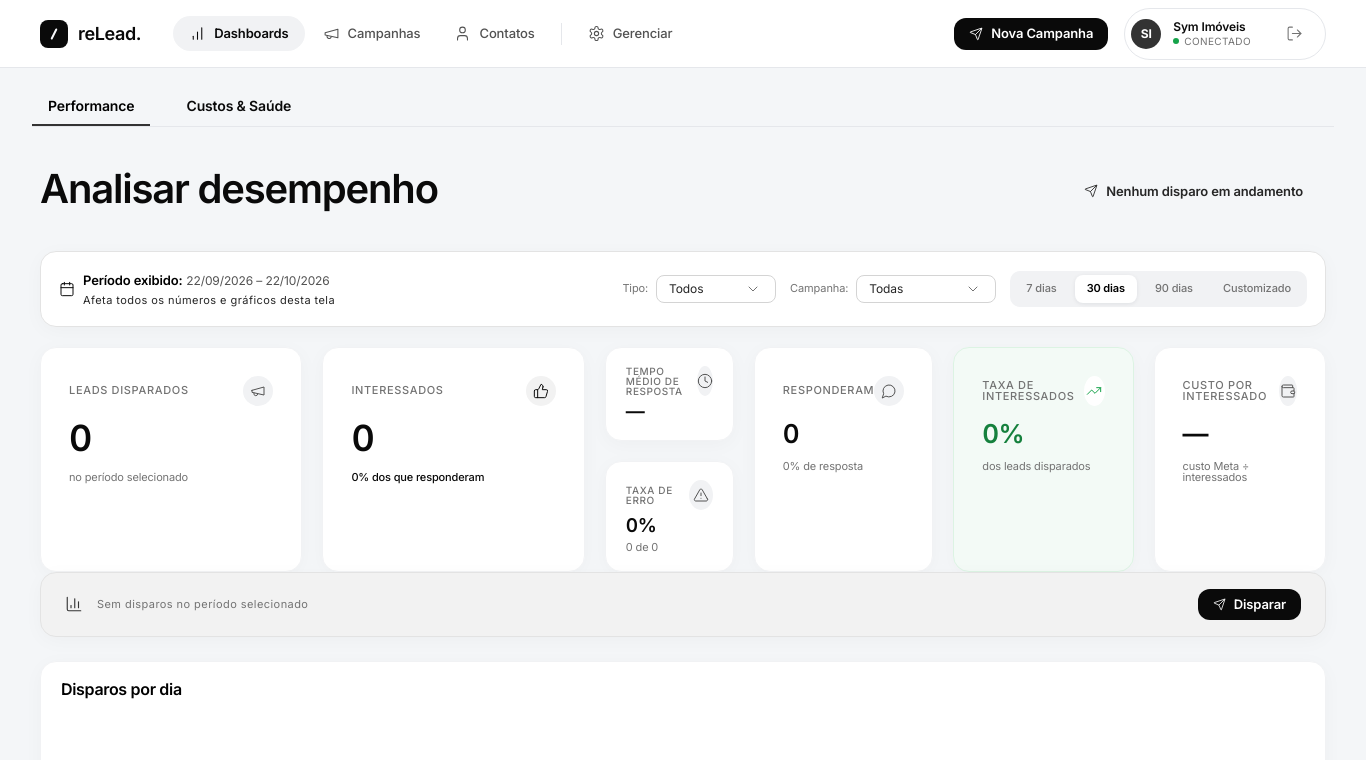
Scenario: DashboardPage - Gerenciar CRUD › Campanhas agendadas › deve abrir modal de detalhes ao clicar no botão visualizar
Click the button "Gerenciar" at (630, 34), box x1=572 y1=16 x2=688 y2=51
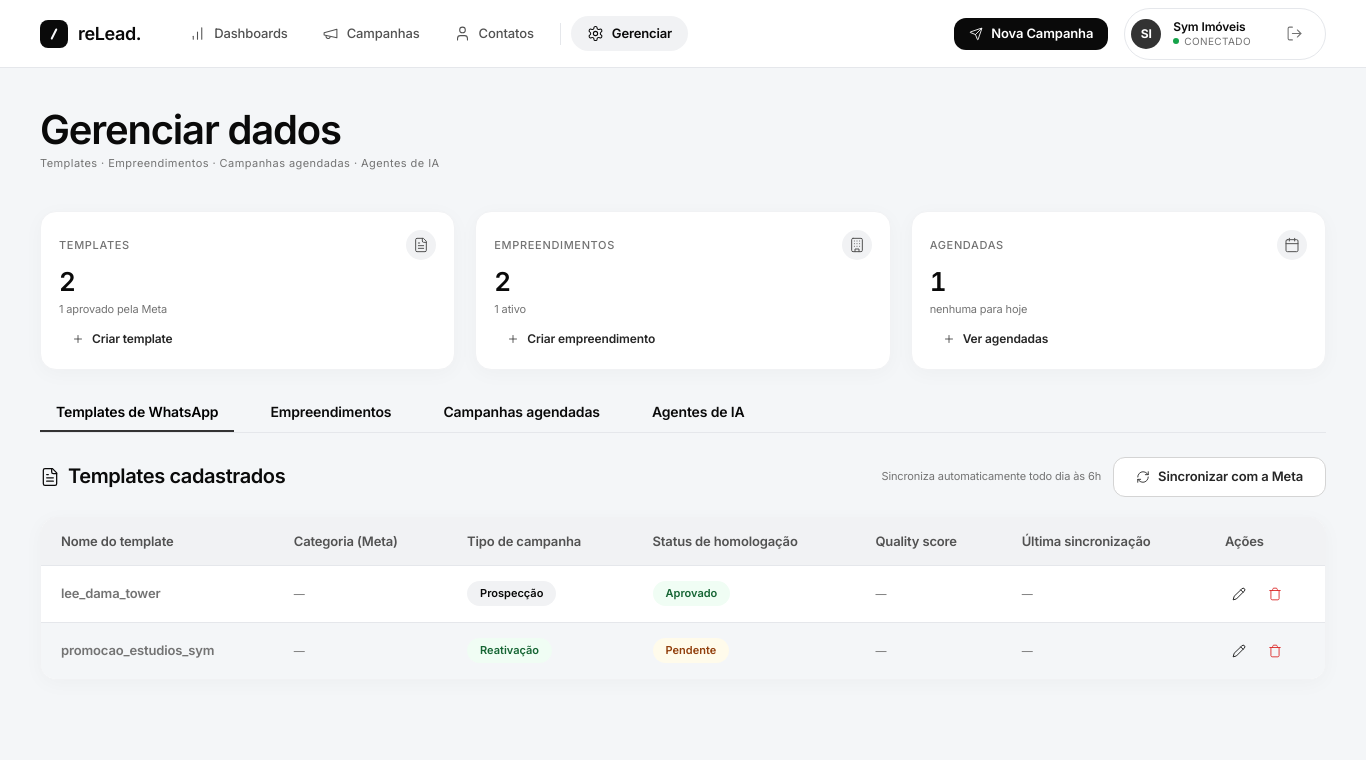
Click the button "Campanhas agendadas" at (522, 413), box x1=427 y1=394 x2=616 y2=432
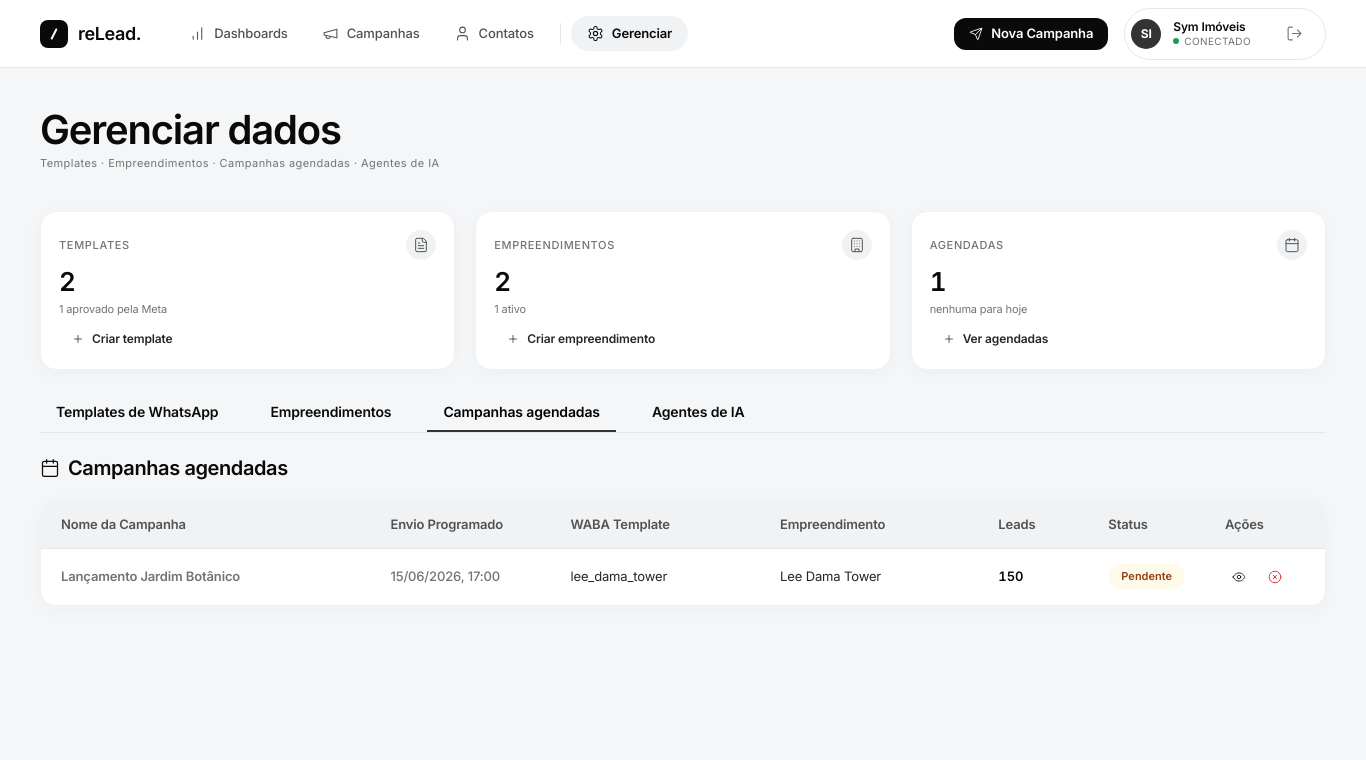
Result: the text "Lançamento Jardim Botânico" is shown at x1=41 y1=548 x2=370 y2=605
Click the button titled "Visualizar detalhes" at (1239, 577), box x1=1225 y1=563 x2=1253 y2=591
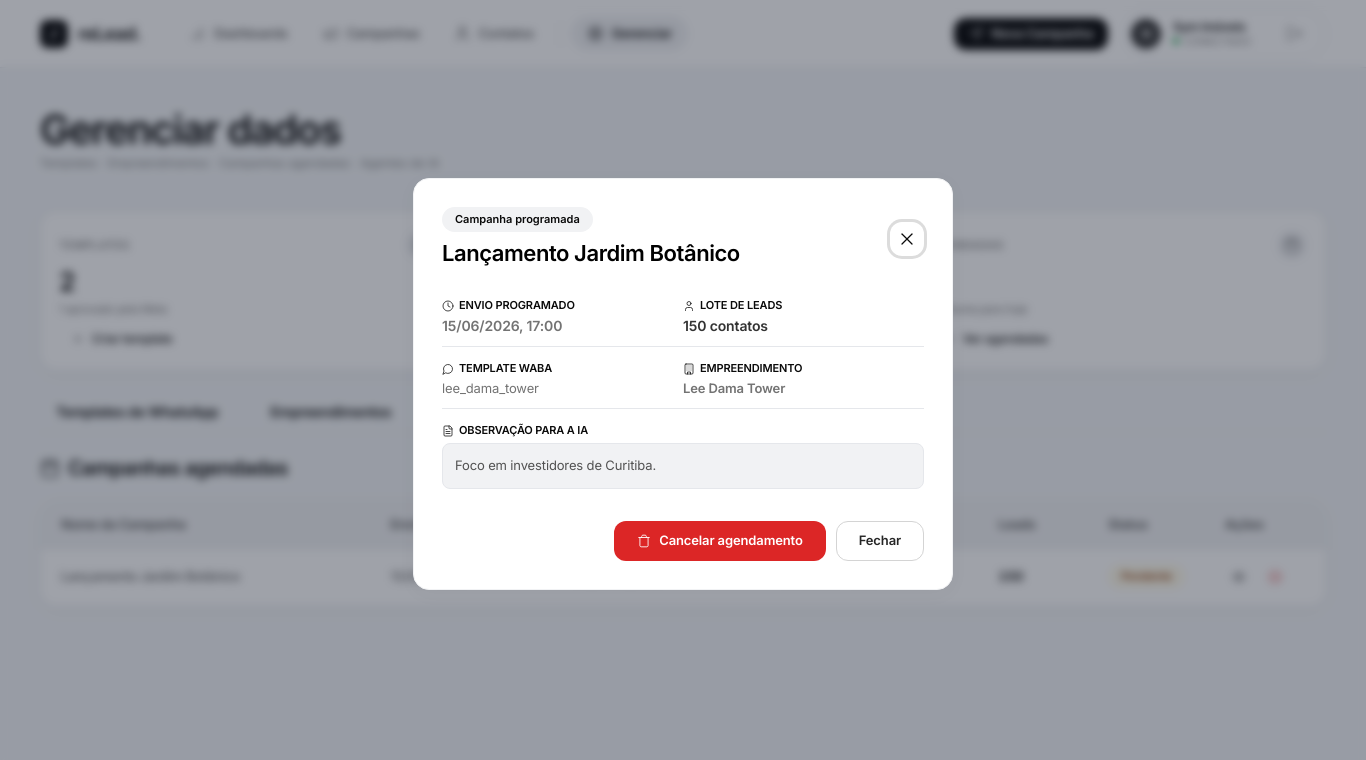
Result: the text "Foco em investidores de Curitiba." is shown at x1=442 y1=443 x2=924 y2=489
